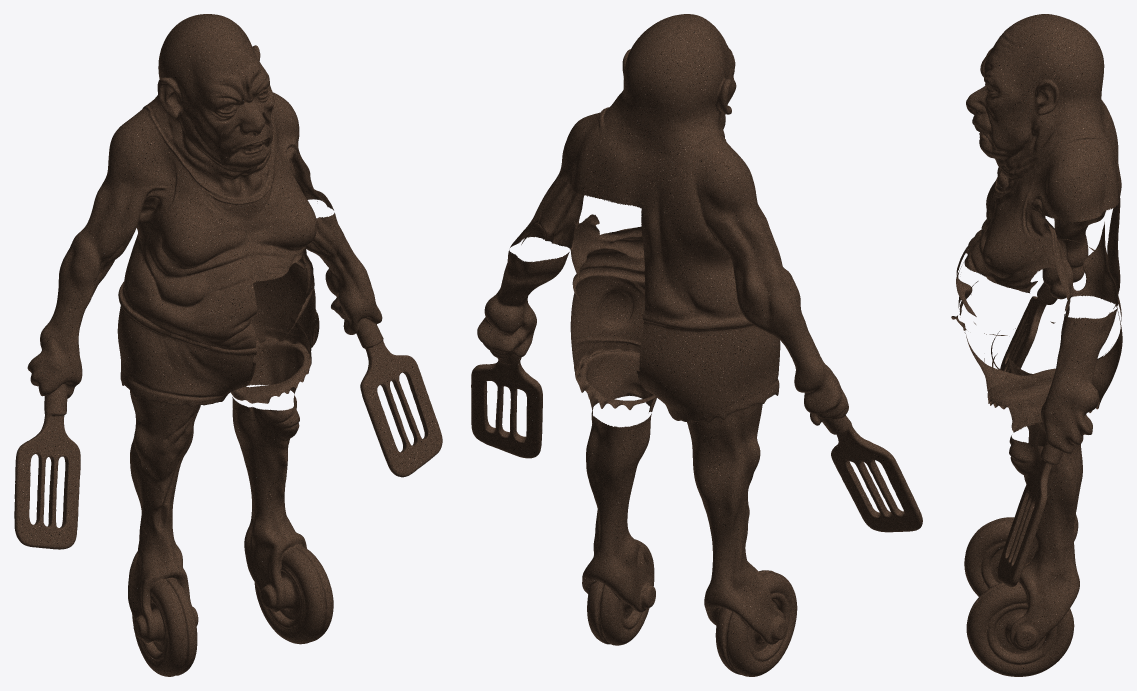
The model's file is bob-3d-model.glb.
3 renders of one model, left to right at view 1: azimuth 30°, elevation 25°; view 2: azimuth 150°, elevation 25°; view 3: azimuth 270°, elevation 25°, orthographic. The views are drawn at different scales.
Parts seen in each view (by area): view 1: tmpwnh6x2y_obj; view 2: tmpwnh6x2y_obj; view 3: tmpwnh6x2y_obj.
Part boxes in pixels (<box>): tmpwnh6x2y_obj: <box>14,14,442,676</box>; tmpwnh6x2y_obj: <box>471,14,922,676</box>; tmpwnh6x2y_obj: <box>951,14,1122,676</box>.
Bounding box in the file's own units: 0.7169 × 1 × 0.2495.
Materials: 1 (1 with a texture image).
